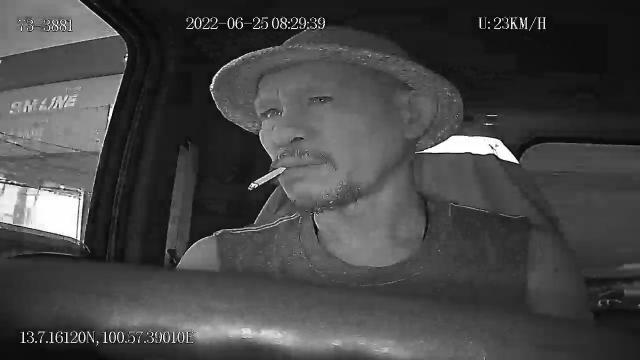SafeDriving: (302, 88, 340, 110), (256, 103, 289, 122)
Smoking: (248, 164, 288, 190)
